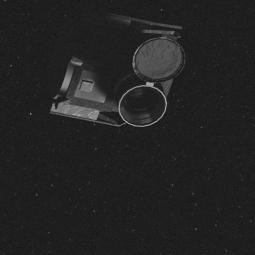cheops: (36, 15, 198, 129)
